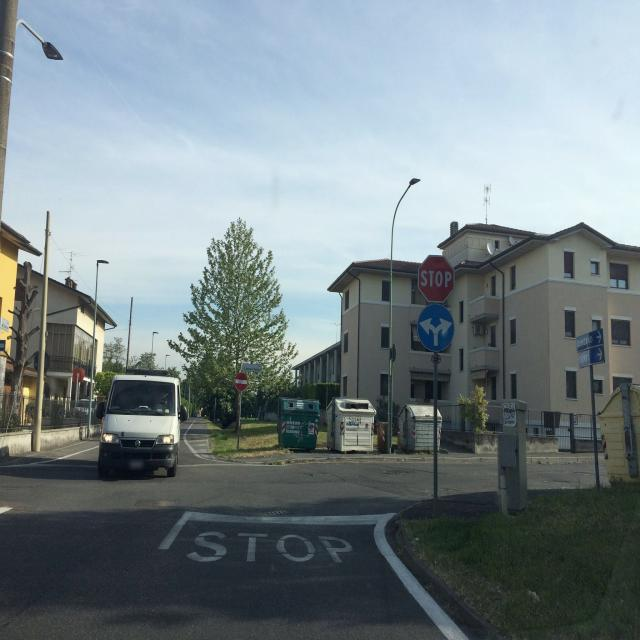car: (98, 370, 180, 480), (179, 406, 188, 422)
